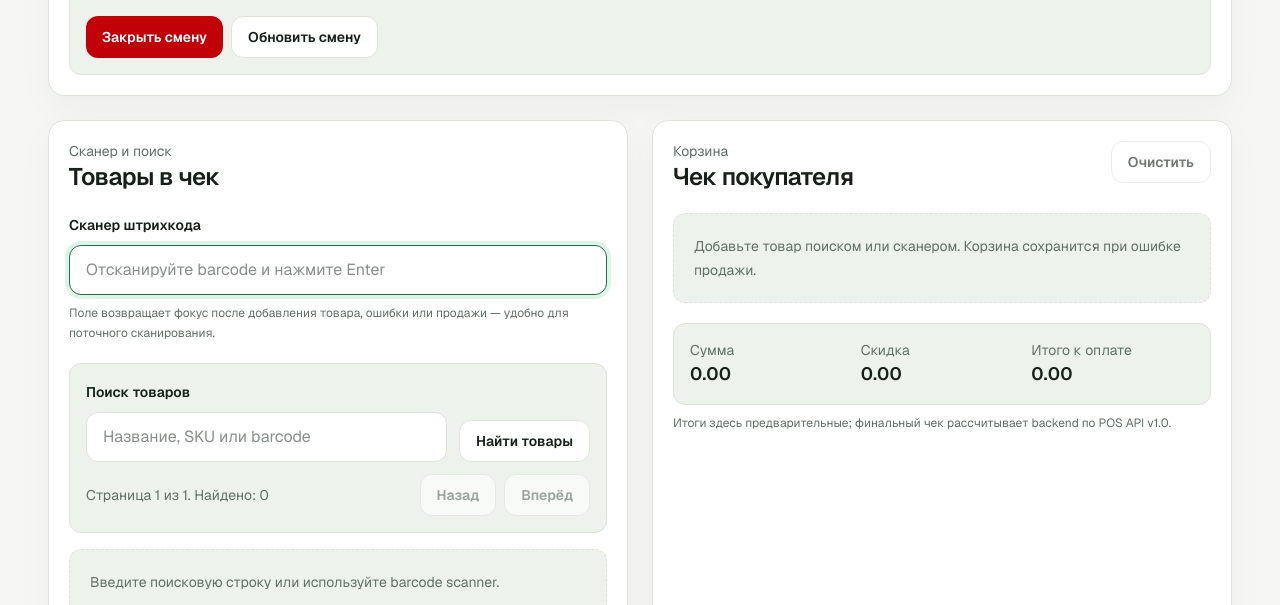
Test case: POSManager scanner, cart and sale › blocks discounts above role limit before sale
(page scrolled)
Type "460123" into the field labelled "Сканер штрихкода" at (338, 270), box [69,245,607,295]
Then press Enter
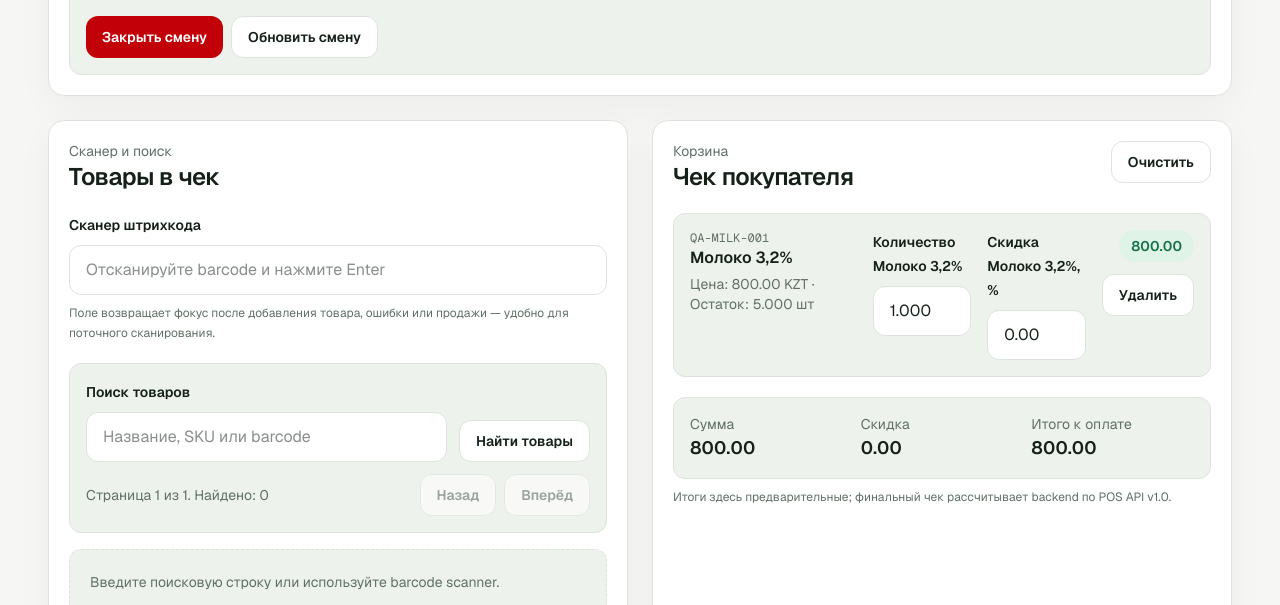
Result: the text "QA-MILK-001" is shown at [690,230,769,246]
Replace the text in the field labelled "Скидка Молоко 3,2%, %" with "50" at (1036, 335), box [987,310,1086,360]
(page scrolled)
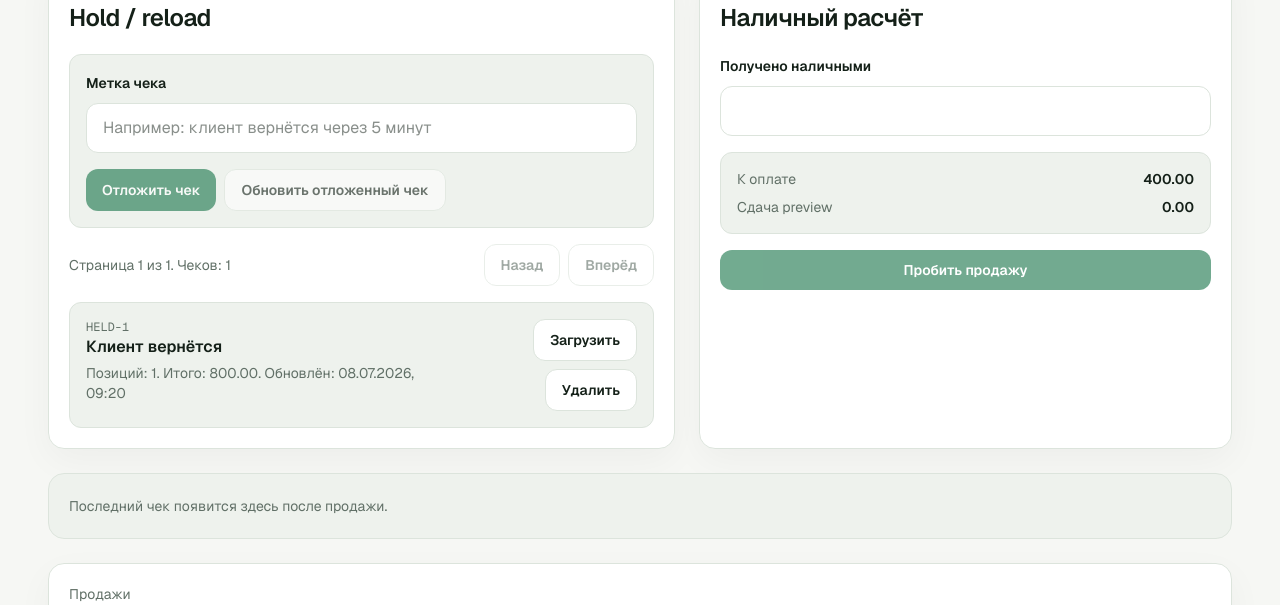
Result: the button "Пробить продажу" is disabled at [720,250,1211,290]
